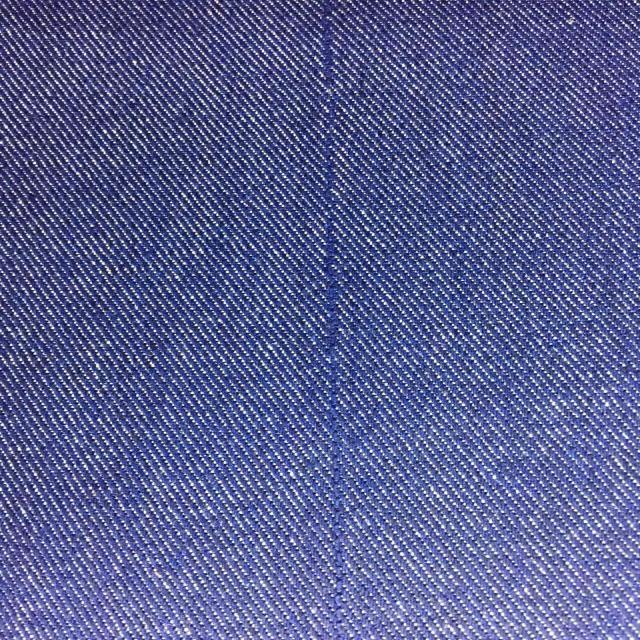Line: (318, 0, 344, 640)
